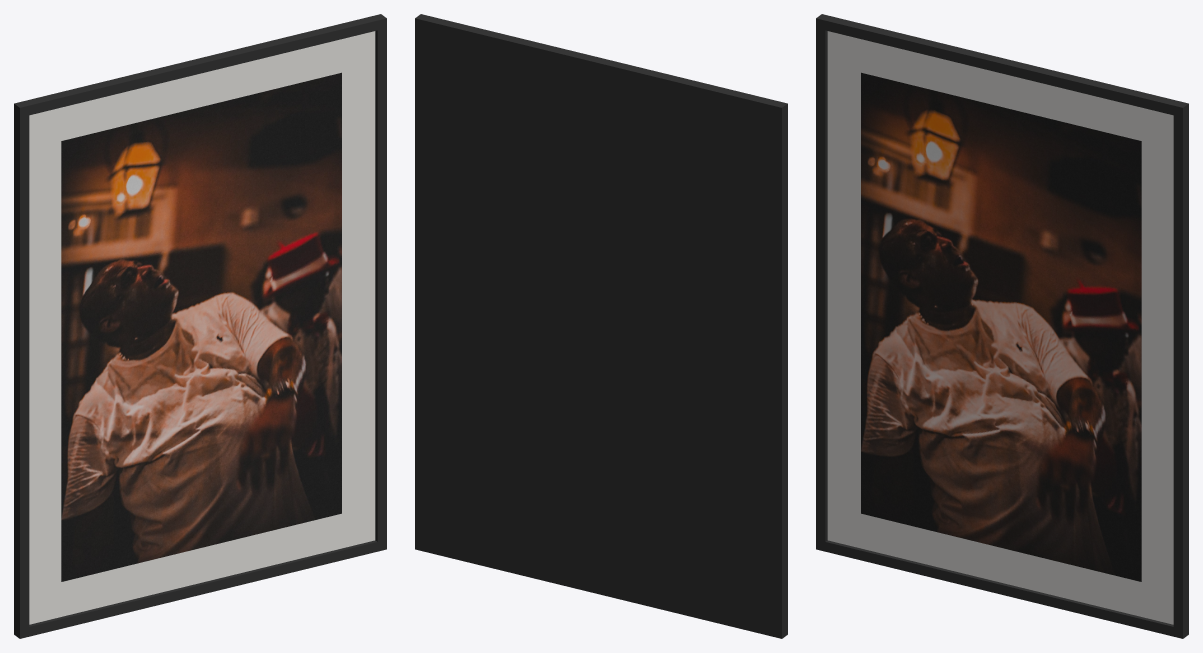
File: dansen-90.gltf
3 views of the same model, side by side, from view 1: azimuth 30°, elevation 25°; view 2: azimuth 150°, elevation 25°; view 3: azimuth 330°, elevation 25° (orthographic).
Parts seen in each view (by area): view 1: tavla; view 2: tavla; view 3: tavla.
Boxes of the visible parts, <box> form: tavla: <box>14,14,386,638</box>; tavla: <box>415,14,787,638</box>; tavla: <box>816,14,1188,638</box>.
Size of the model in its own units: 0.784 by 1.08 by 0.022.
Materials: 3 (1 with a texture image).
